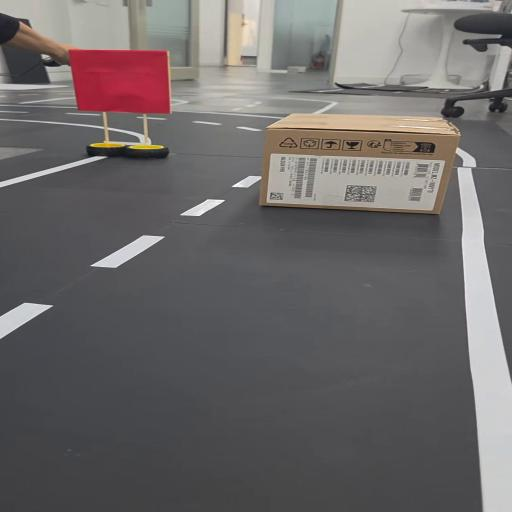Box: (264, 116, 468, 214)
Sign_A: (66, 48, 189, 164)
